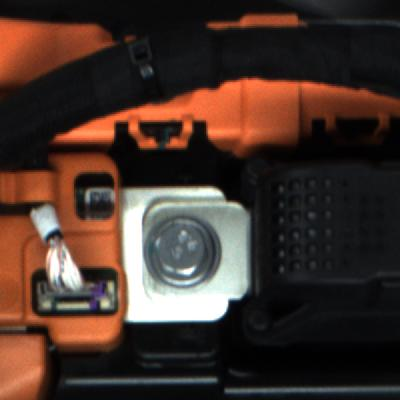nut_b: (139, 216, 223, 287)
